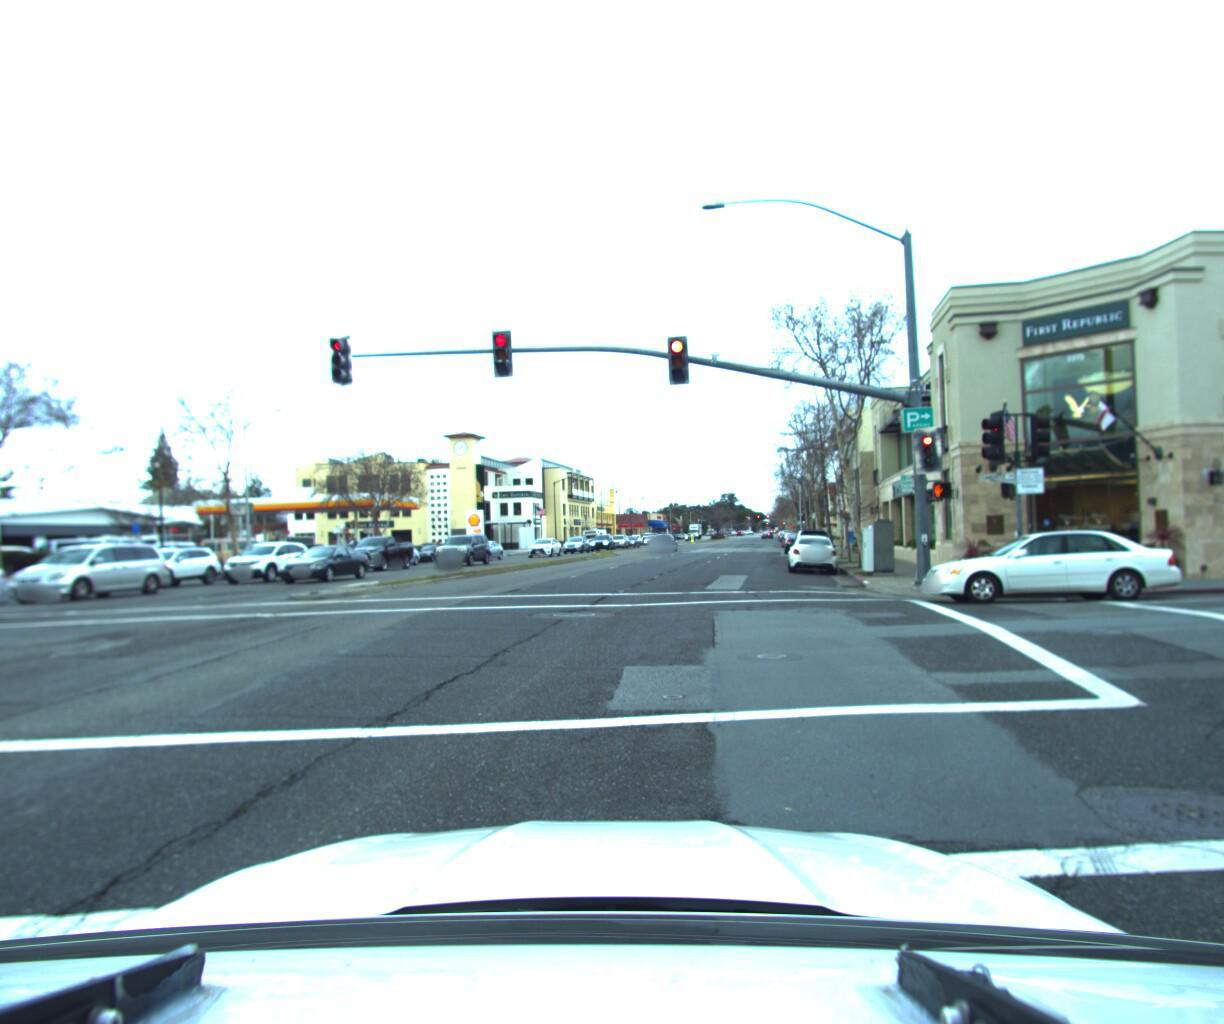car: (902, 507, 1186, 597), (115, 541, 232, 590), (216, 536, 319, 583), (270, 542, 377, 583), (21, 534, 132, 573), (336, 533, 420, 573), (191, 533, 272, 573), (147, 538, 224, 574), (782, 527, 839, 573), (430, 532, 496, 567), (375, 540, 433, 568), (465, 537, 510, 559), (523, 535, 563, 557), (407, 543, 450, 562), (647, 524, 678, 546), (780, 529, 810, 551), (562, 533, 591, 552), (586, 531, 612, 548)
other_vehicle: (67, 530, 170, 569), (274, 532, 321, 558)
